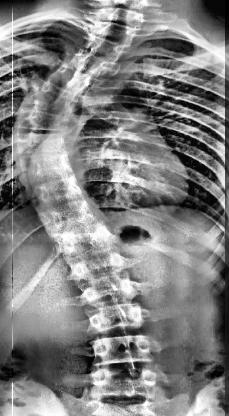Vertebrae: (23, 81, 93, 117), (89, 369, 161, 403), (35, 203, 109, 235), (14, 104, 86, 135), (23, 179, 88, 213), (9, 127, 79, 158), (58, 225, 122, 257), (92, 336, 160, 366), (68, 252, 134, 282), (85, 303, 147, 333), (79, 277, 145, 305), (18, 154, 78, 184), (54, 64, 104, 96), (83, 32, 125, 64), (69, 48, 111, 78), (93, 22, 133, 42)
